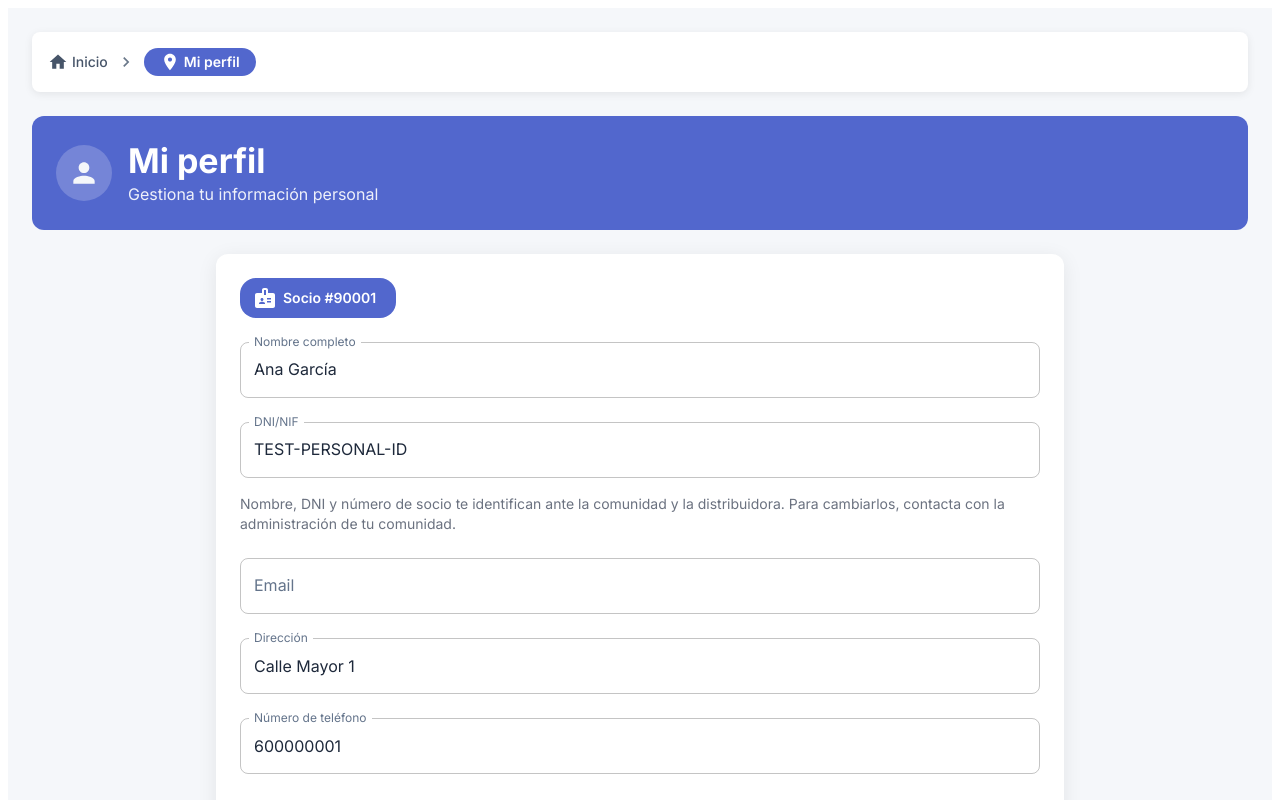
Test: ProfilePage optional email › UI-PRF-001 saves a phone change for a member without email, and the profile still shows none
Expected: the field labelled "Email" is empty, [240,558,1040,614]
Replace the text in the field labelled "Número de teléfono" with "600000002": x=640, y=746 [240,718,1040,774]
(page scrolled)
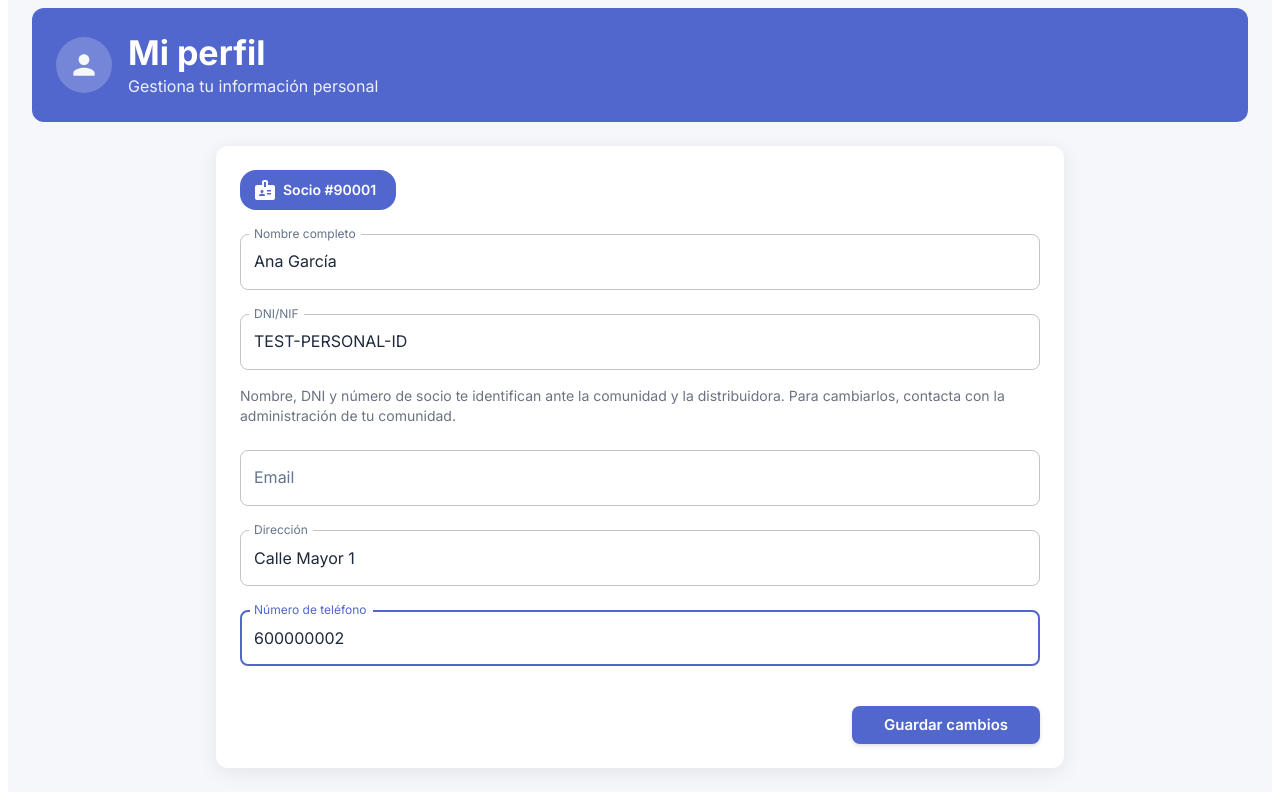
Click the button "Guardar cambios": x=946, y=725 [852,706,1040,744]
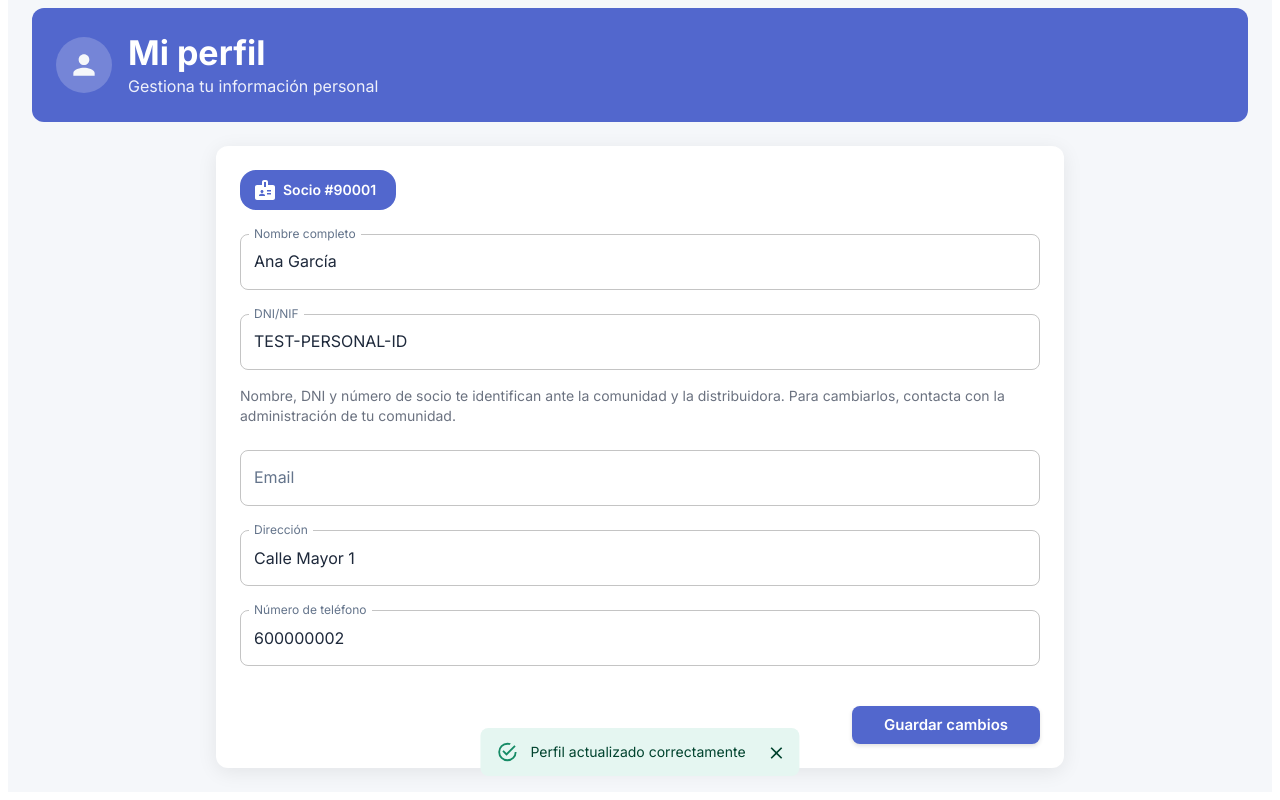
Expected: the field labelled "Email" is empty, [240,450,1040,506]
Expected: the text "Perfil actualizado correctamente" is shown, [530,743,746,760]
